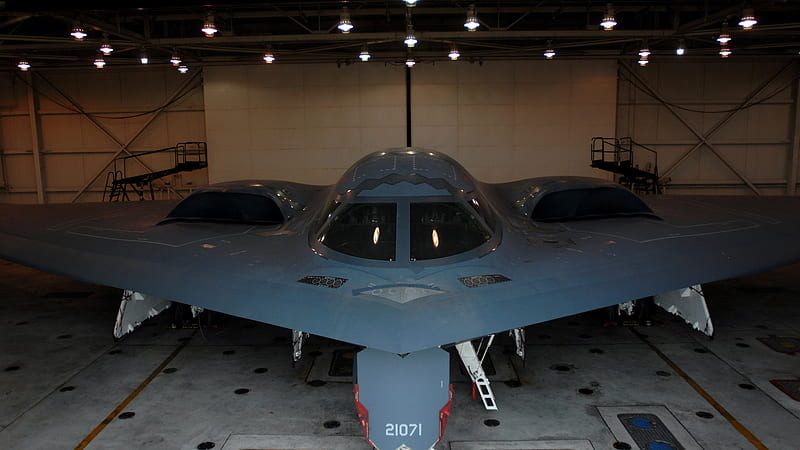B2: (1, 146, 800, 450)
